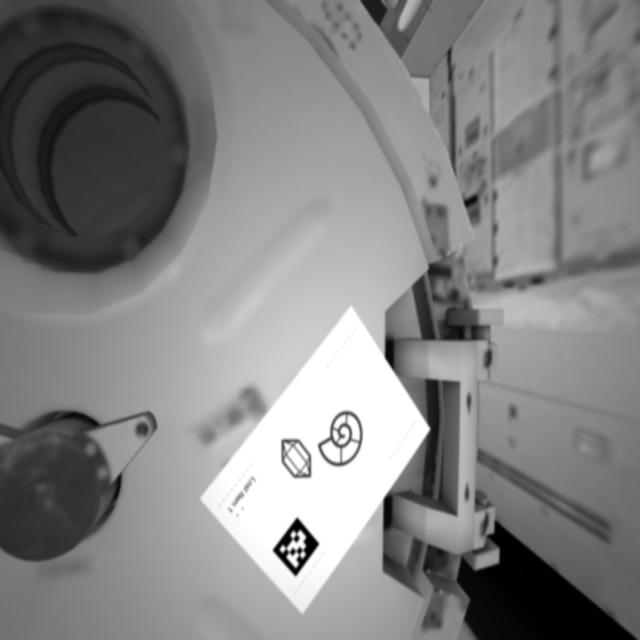crystal: (276, 433, 319, 484)
fossil: (317, 411, 370, 471)
